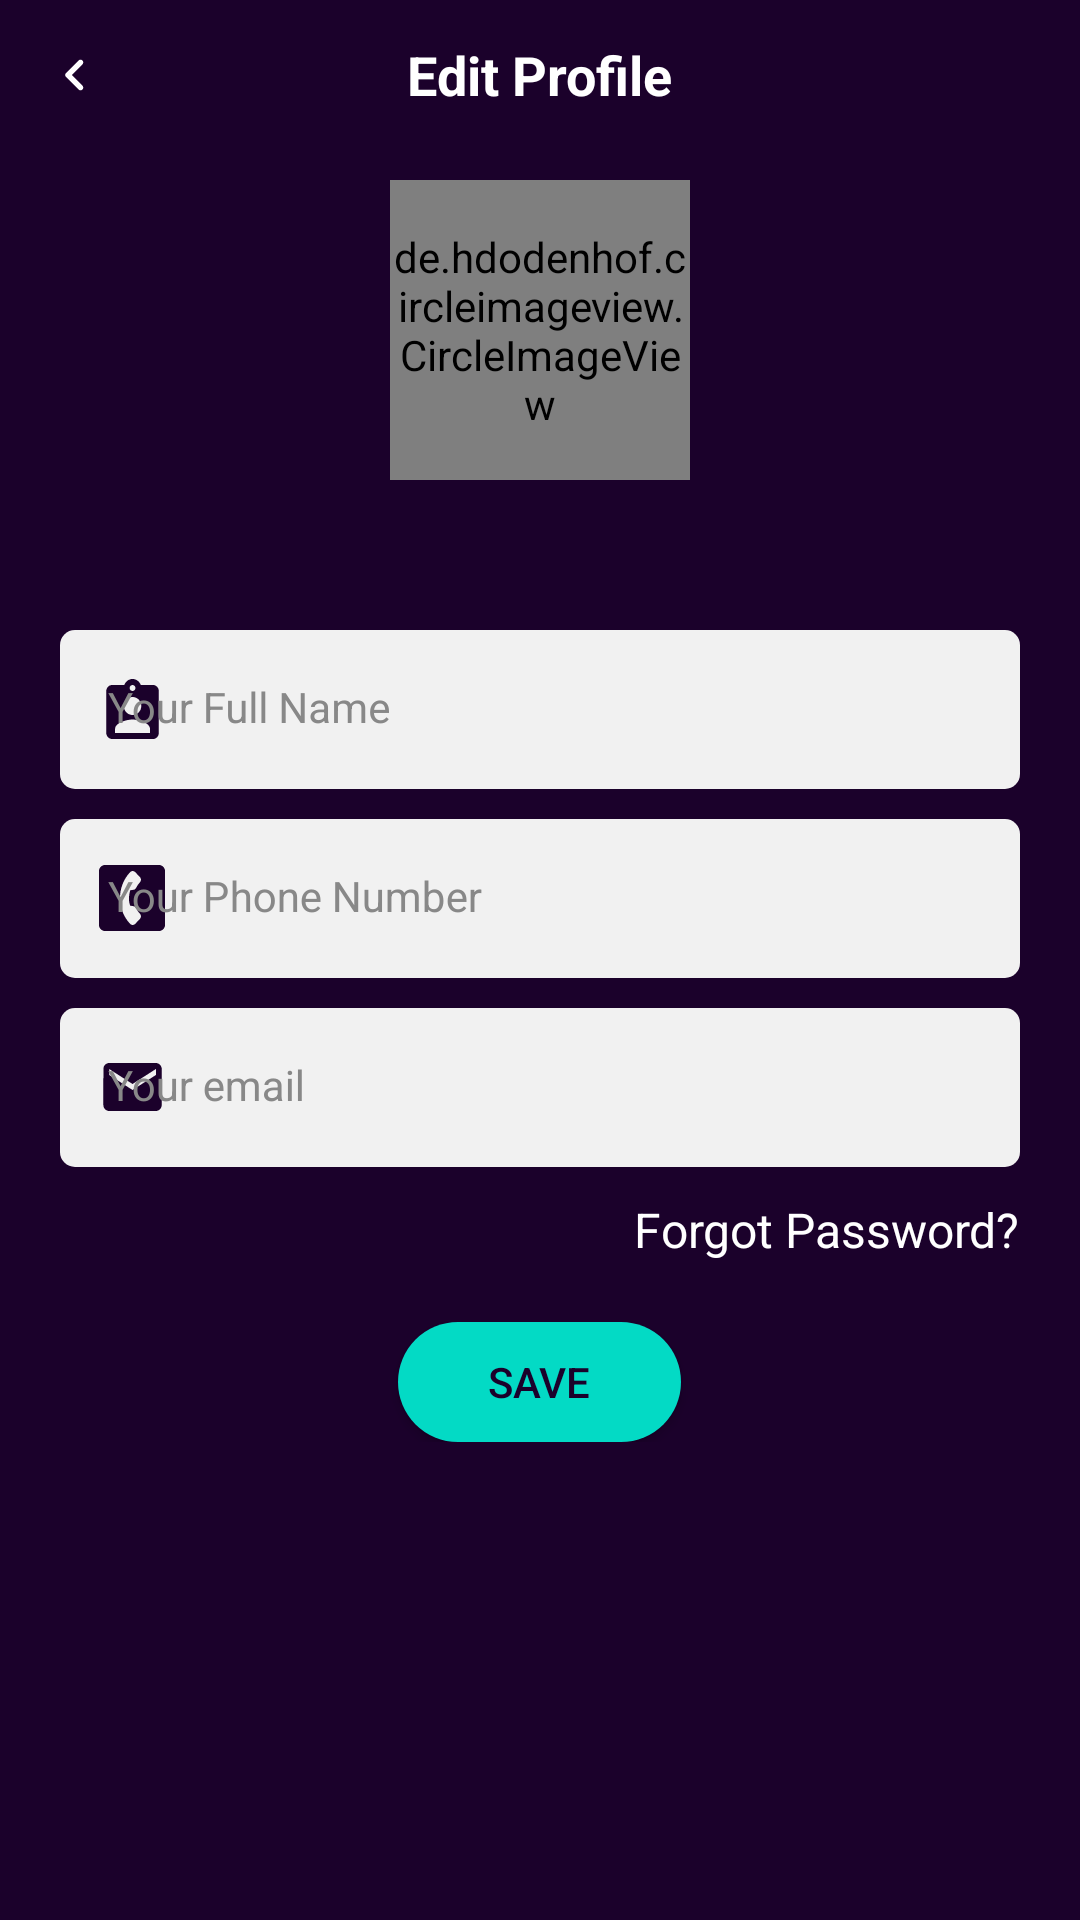

Icon click points for this 1080w x 1920h phone screenshot, format [x,y]:
left: [74,75]
